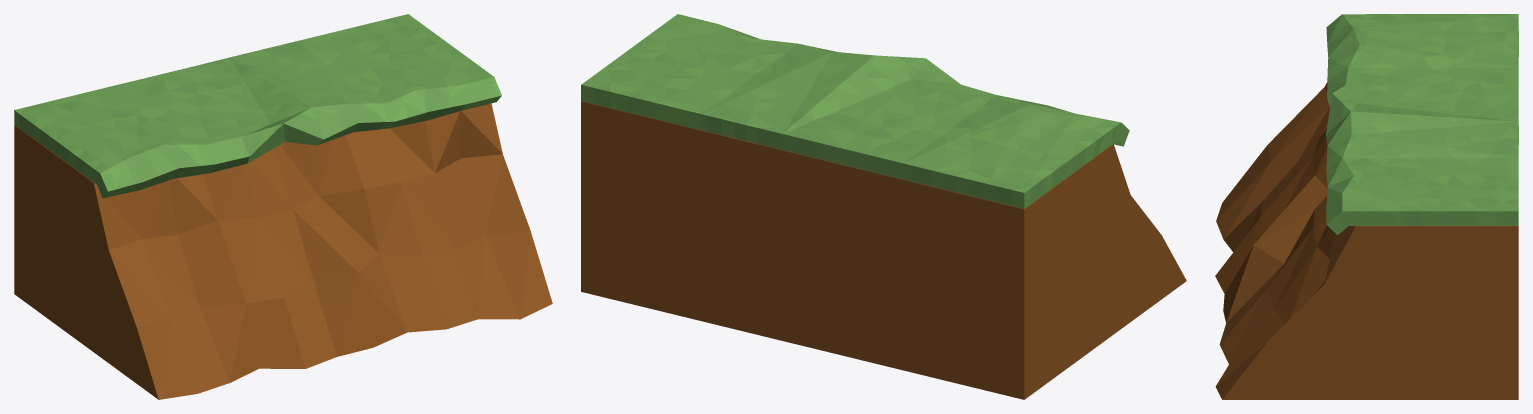
3 renders of one model, left to right at view 1: azimuth 30°, elevation 25°; view 2: azimuth 150°, elevation 25°; view 3: azimuth 270°, elevation 25°, orthographic. The views are drawn at different scales.
Visible parts, largest first — view 1: Куб.049; view 2: Куб.049; view 3: Куб.049.
Part boxes in pixels (bbox=[...]): Куб.049: bbox=[14, 14, 552, 399]; Куб.049: bbox=[581, 14, 1186, 399]; Куб.049: bbox=[1215, 14, 1518, 399].
Size of the model in its own units: 2001 by 963 by 1302.
